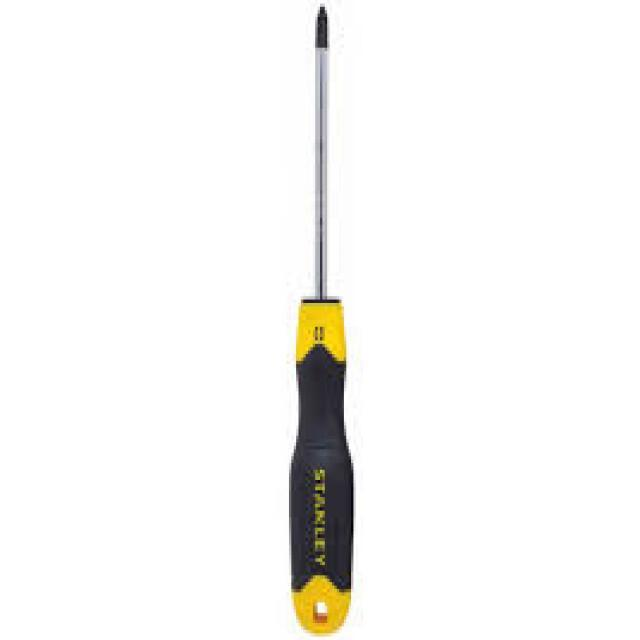screwdriver: (286, 3, 360, 640)
